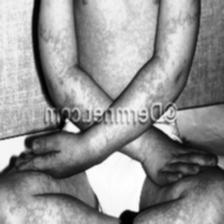Toxin: (4, 202, 86, 224), (137, 207, 205, 224), (142, 62, 172, 100), (37, 30, 71, 61), (61, 76, 93, 104), (164, 12, 192, 38), (90, 130, 124, 147)
